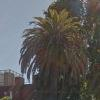Palm tree: (28, 7, 100, 100)
